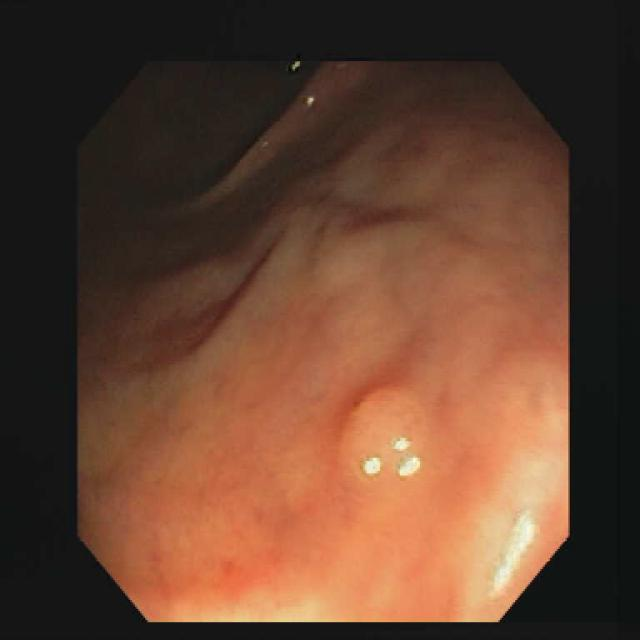tumor: (342, 389, 432, 487)
